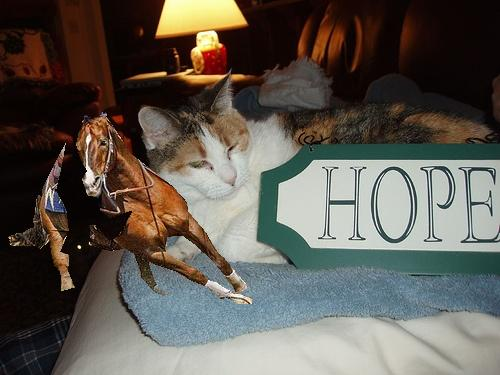tampered: (9, 113, 252, 304)
